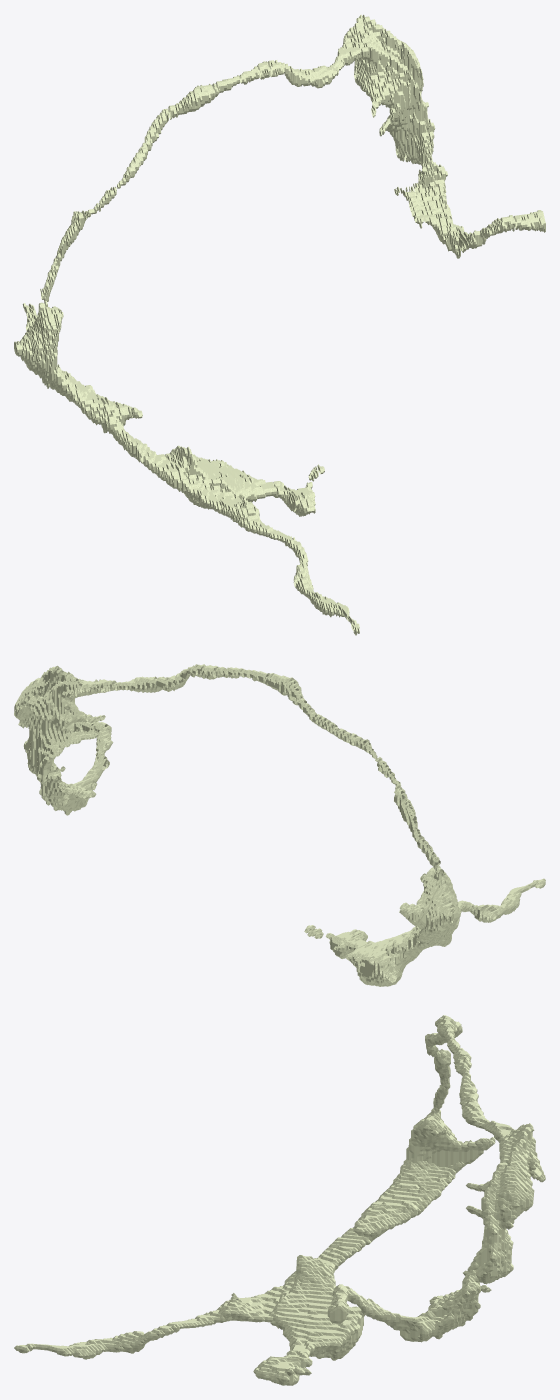
File: SVV_RMDDR.gltf
The picture shows the model from 3 angles, top to bottom: view 1: azimuth 30°, elevation 25°; view 2: azimuth 150°, elevation 25°; view 3: azimuth 270°, elevation 25°; orthographic projection. The views are drawn at different scales.
Parts seen in each view (by area): view 1: RMDDR; view 2: RMDDR; view 3: RMDDR.
Boxes of the visible parts, x1,y1,x2,y2 form: RMDDR: [14, 14, 545, 635]; RMDDR: [14, 664, 545, 986]; RMDDR: [14, 1015, 545, 1385].
Bounding box in the file's own units: 126156 × 94971 × 124985.
